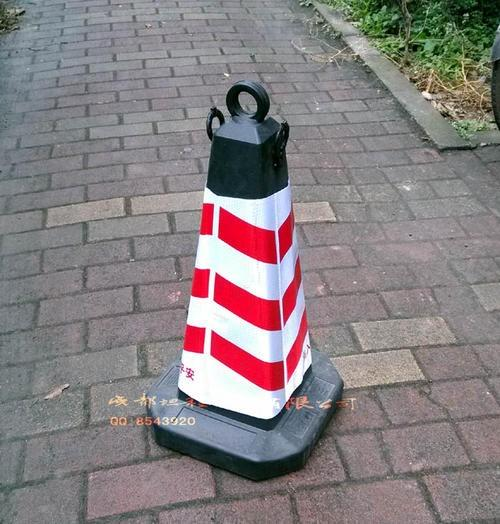cone_barrel: (141, 81, 342, 457)
